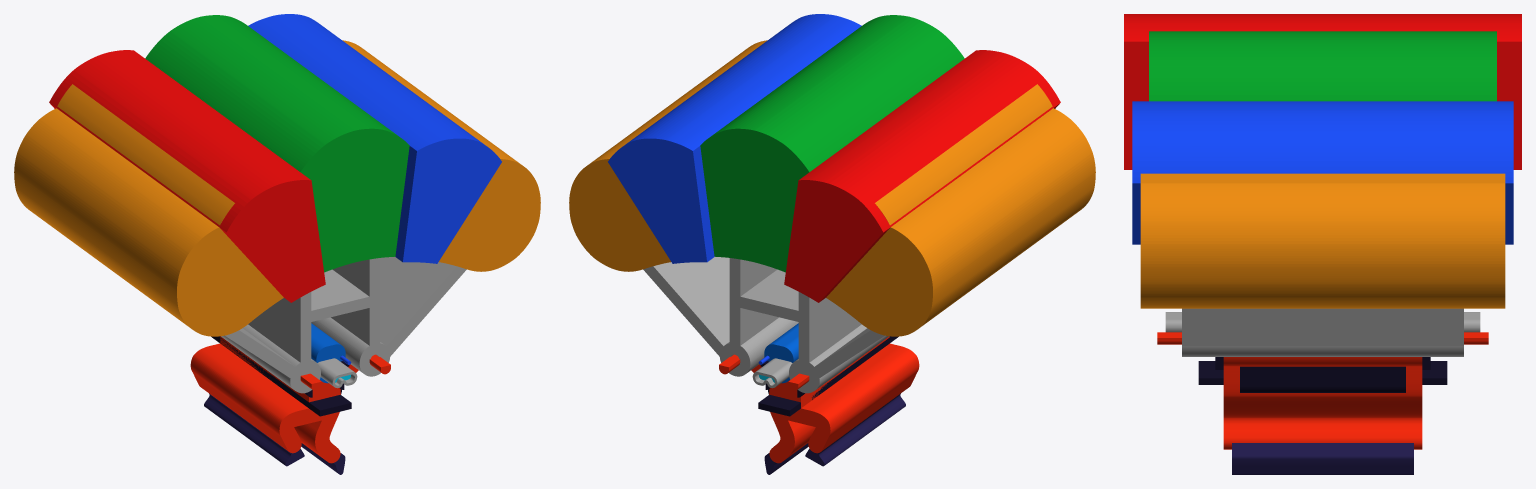
3 views of the same model, side by side, from view 1: azimuth 30°, elevation 25°; view 2: azimuth 150°, elevation 25°; view 3: azimuth 270°, elevation 25° (orthographic). The views are drawn at different scales.
Visible parts, largest first — view 1: U+1FA82_layer12_obj00, U+1FA82_layer11_obj00, U+1FA82_layer14_obj00, U+1FA82_layer13_obj00, U+1FA82_layer07_obj00, U+1FA82_layer02_obj00, U+1FA82_layer01_obj00, U+1FA82_layer05_obj00, U+1FA82_layer04_obj00, U+1FA82_layer09_obj00; view 2: U+1FA82_layer12_obj00, U+1FA82_layer11_obj00, U+1FA82_layer14_obj00, U+1FA82_layer13_obj00, U+1FA82_layer07_obj00, U+1FA82_layer02_obj00, U+1FA82_layer01_obj00, U+1FA82_layer05_obj00, U+1FA82_layer04_obj00, U+1FA82_layer09_obj00; view 3: U+1FA82_layer12_obj00, U+1FA82_layer13_obj00, U+1FA82_layer11_obj00, U+1FA82_layer07_obj00, U+1FA82_layer02_obj00, U+1FA82_layer14_obj00, U+1FA82_layer01_obj00, U+1FA82_layer00_obj00, U+1FA82_layer05_obj00, U+1FA82_layer09_obj00, U+1FA82_layer10_obj00.
Boxes of the visible parts, x1,y1,x2,y2 form: U+1FA82_layer12_obj00: [14, 40, 540, 336]; U+1FA82_layer11_obj00: [145, 15, 409, 272]; U+1FA82_layer14_obj00: [49, 50, 325, 302]; U+1FA82_layer13_obj00: [248, 14, 501, 263]; U+1FA82_layer07_obj00: [221, 257, 466, 393]; U+1FA82_layer02_obj00: [190, 336, 358, 463]; U+1FA82_layer01_obj00: [204, 393, 345, 474]; U+1FA82_layer05_obj00: [211, 336, 351, 416]; U+1FA82_layer04_obj00: [311, 323, 345, 383]; U+1FA82_layer09_obj00: [317, 358, 357, 388]; U+1FA82_layer12_obj00: [569, 40, 1095, 336]; U+1FA82_layer11_obj00: [700, 15, 964, 272]; U+1FA82_layer14_obj00: [784, 50, 1060, 302]; U+1FA82_layer13_obj00: [608, 14, 861, 263]; U+1FA82_layer07_obj00: [643, 257, 888, 393]; U+1FA82_layer02_obj00: [751, 336, 919, 463]; U+1FA82_layer01_obj00: [764, 393, 905, 474]; U+1FA82_layer05_obj00: [758, 336, 898, 416]; U+1FA82_layer04_obj00: [764, 323, 798, 383]; U+1FA82_layer09_obj00: [752, 358, 792, 388]; U+1FA82_layer12_obj00: [1140, 173, 1505, 308]; U+1FA82_layer13_obj00: [1132, 101, 1513, 244]; U+1FA82_layer11_obj00: [1149, 31, 1496, 101]; U+1FA82_layer07_obj00: [1182, 308, 1463, 356]; U+1FA82_layer02_obj00: [1223, 357, 1422, 449]; U+1FA82_layer14_obj00: [1124, 14, 1521, 169]; U+1FA82_layer01_obj00: [1232, 443, 1413, 474]; U+1FA82_layer00_obj00: [1240, 366, 1405, 392]; U+1FA82_layer05_obj00: [1198, 361, 1447, 384]; U+1FA82_layer09_obj00: [1165, 312, 1480, 332]; U+1FA82_layer10_obj00: [1157, 332, 1488, 344].
Bounding box in the file's own units: 0.5681 × 0.5624 × 0.48.
